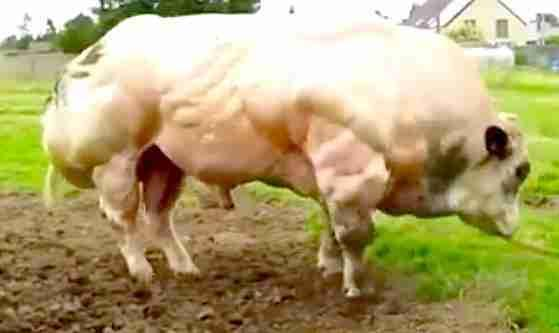cow: (45, 14, 531, 297)
